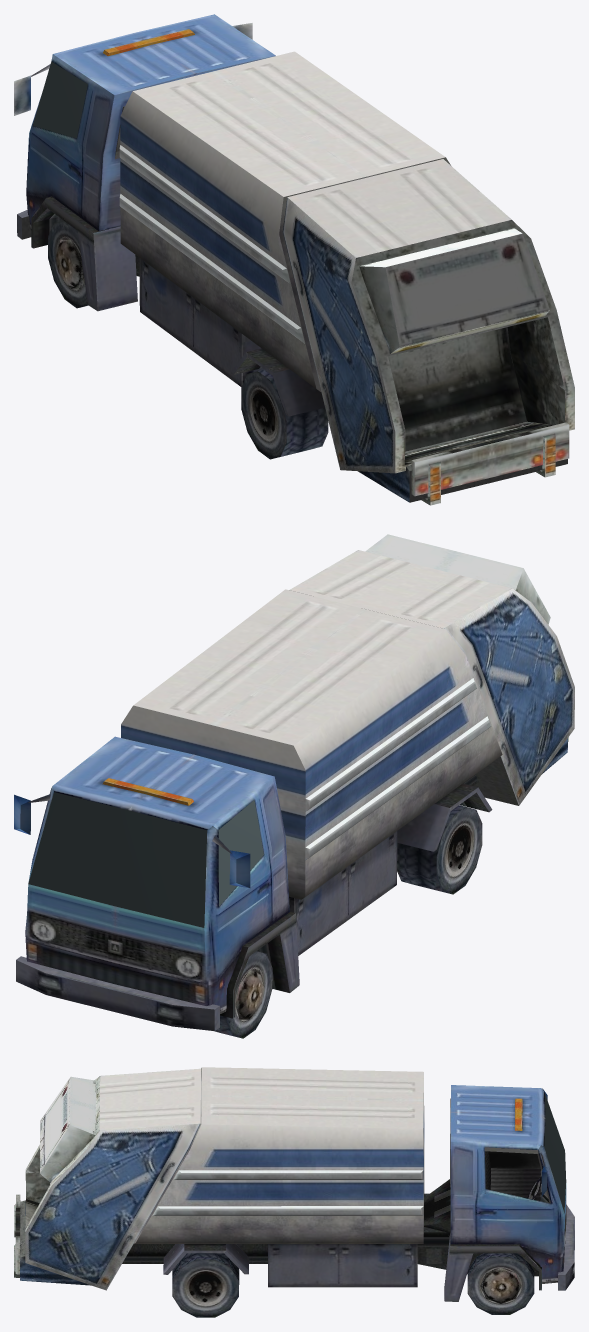
File: p54_06_garbage_truck.glb
The picture shows the model from 3 angles, top to bottom: view 1: azimuth 30°, elevation 25°; view 2: azimuth 150°, elevation 25°; view 3: azimuth 270°, elevation 25°; orthographic projection. The views are drawn at different scales.
Visible parts, largest first — view 1: Body, Glass; view 2: Body, Glass; view 3: Body, Glass.
Boxes of the visible parts, bbox=[...] form: Body: bbox=[14, 14, 574, 505]; Glass: bbox=[33, 61, 87, 138]; Body: bbox=[14, 534, 574, 1038]; Glass: bbox=[28, 792, 263, 927]; Body: bbox=[14, 1067, 574, 1317]; Glass: bbox=[544, 1093, 566, 1212].
Size of the model in its own units: 3.06 by 3.15 by 8.54.
2 materials, 2 textured.
